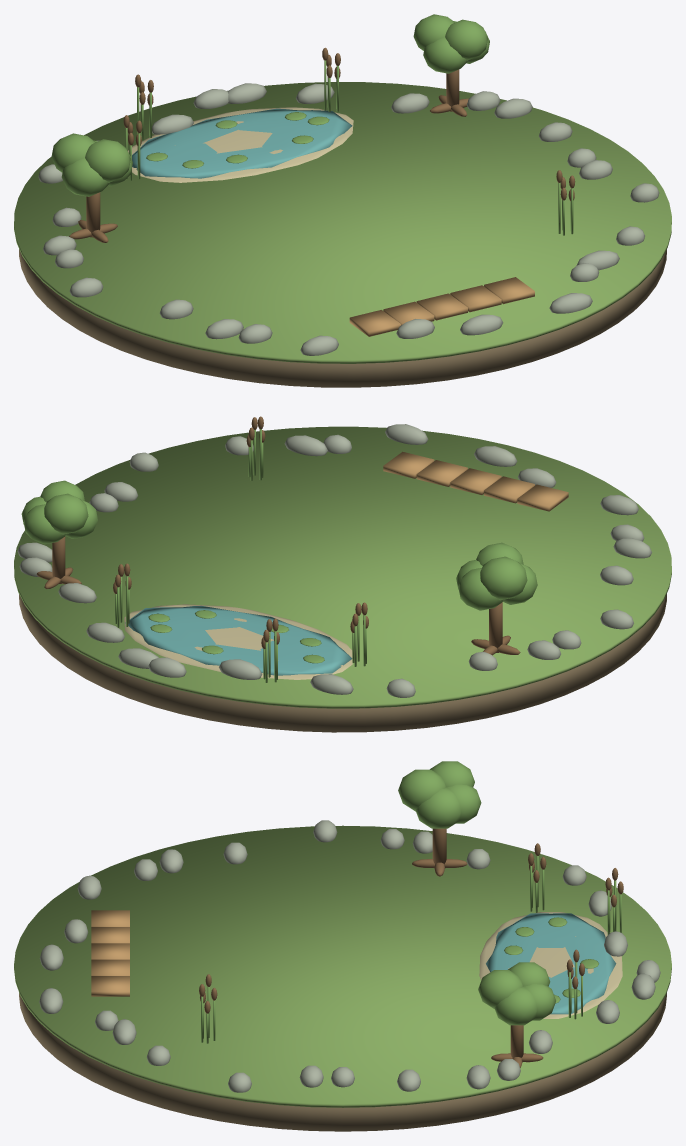
The model's file is habitat-pond.glb.
3 views of the same model, one above another, from view 1: azimuth 30°, elevation 25°; view 2: azimuth 150°, elevation 25°; view 3: azimuth 270°, elevation 25° (orthographic).
Visible parts, largest first — view 1: Walkable moss meadow, Layered island soil, habitat-pond_rock, habitat-pond_leaf, Still pond water, habitat-pond_wood, habitat-pond_bark, Pond sandy bank; view 2: Walkable moss meadow, Layered island soil, habitat-pond_rock, habitat-pond_leaf, Still pond water, habitat-pond_wood, habitat-pond_bark, Pond sandy bank; view 3: Walkable moss meadow, Layered island soil, habitat-pond_rock, habitat-pond_leaf, Still pond water, habitat-pond_wood, habitat-pond_bark, Pond sandy bank.
Boxes of the visible parts, <box> form: Walkable moss meadow: <box>14,82,671,363</box>; Layered island soil: <box>19,249,666,387</box>; habitat-pond_rock: <box>38,83,659,355</box>; habitat-pond_leaf: <box>51,14,573,235</box>; Still pond water: <box>132,108,352,178</box>; habitat-pond_wood: <box>349,277,534,336</box>; habitat-pond_bark: <box>69,47,575,242</box>; Pond sandy bank: <box>128,107,353,182</box>; Walkable moss meadow: <box>14,426,671,708</box>; Layered island soil: <box>19,594,666,732</box>; habitat-pond_rock: <box>17,424,651,697</box>; habitat-pond_leaf: <box>21,429,537,682</box>; Still pond water: <box>125,606,352,675</box>; habitat-pond_wood: <box>383,451,568,511</box>; habitat-pond_bark: <box>36,416,520,655</box>; Pond sandy bank: <box>124,604,352,679</box>; Walkable moss meadow: <box>14,825,671,1107</box>; Layered island soil: <box>19,993,666,1131</box>; habitat-pond_rock: <box>39,820,660,1092</box>; habitat-pond_leaf: <box>201,761,621,1043</box>; Still pond water: <box>486,913,616,1014</box>; habitat-pond_wood: <box>91,910,129,996</box>; habitat-pond_bark: <box>199,828,623,1067</box>; Pond sandy bank: <box>479,912,622,1018</box>.
Size of the model in its own units: 13.6 by 2.91 by 13.6.
